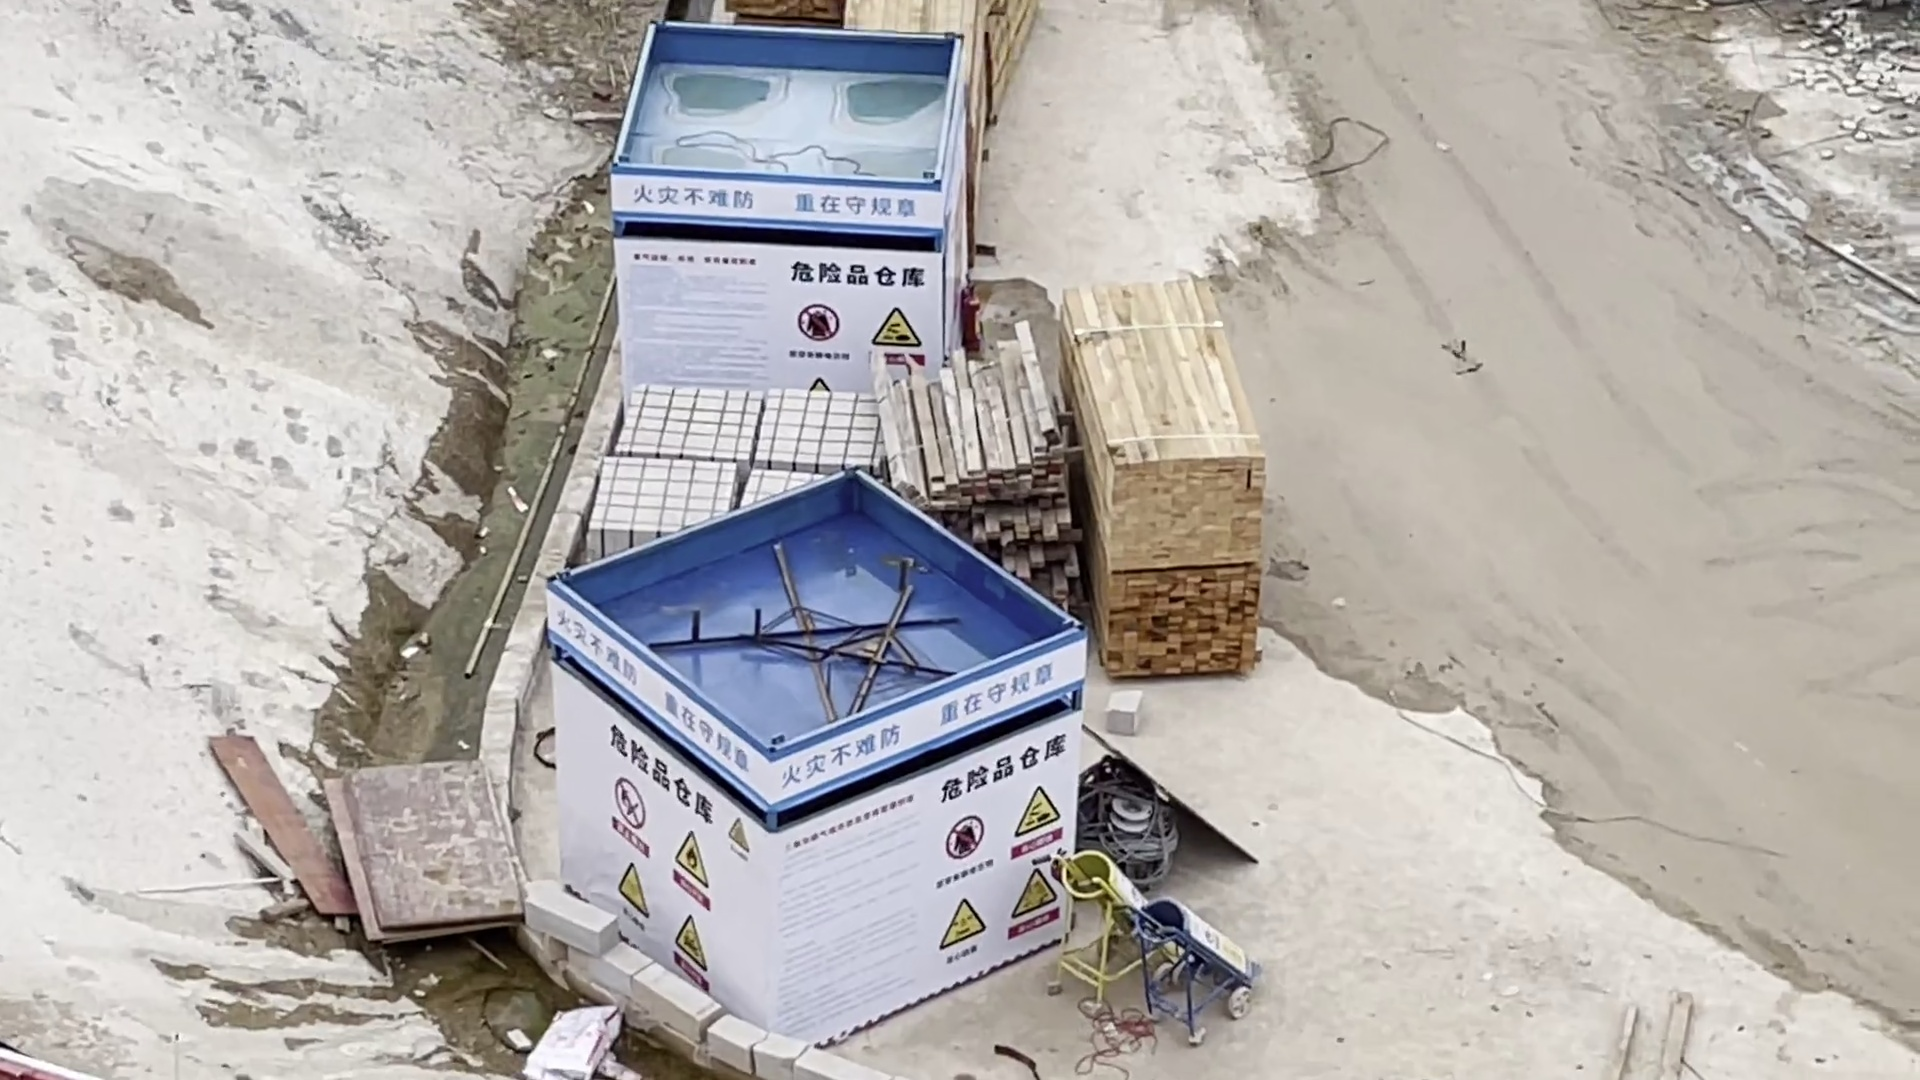slogan: (520, 477, 1156, 1004), (608, 1, 977, 372)
wood: (1069, 274, 1273, 567), (855, 343, 1067, 567), (1073, 558, 1278, 698)
